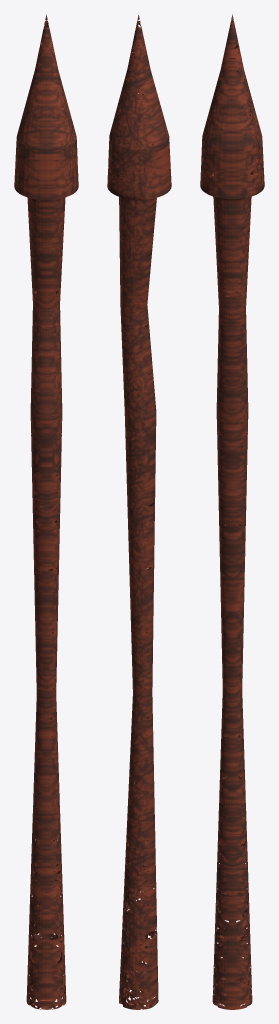
File: Model_Spear.fbx
3 renders of one model, left to right at view 1: azimuth 90°, elevation 25°; view 2: azimuth 150°, elevation 25°; view 3: azimuth 270°, elevation 25°, orthographic.
Parts seen in each view (by area): view 1: Cylinder; view 2: Cylinder; view 3: Cylinder.
Part boxes in pixels (x1,y1,x2,y2): Cylinder: (14, 14, 78, 1009); Cylinder: (107, 15, 171, 1009); Cylinder: (200, 14, 264, 1009).
Bounding box in the file's own units: 16 × 273 × 16.
